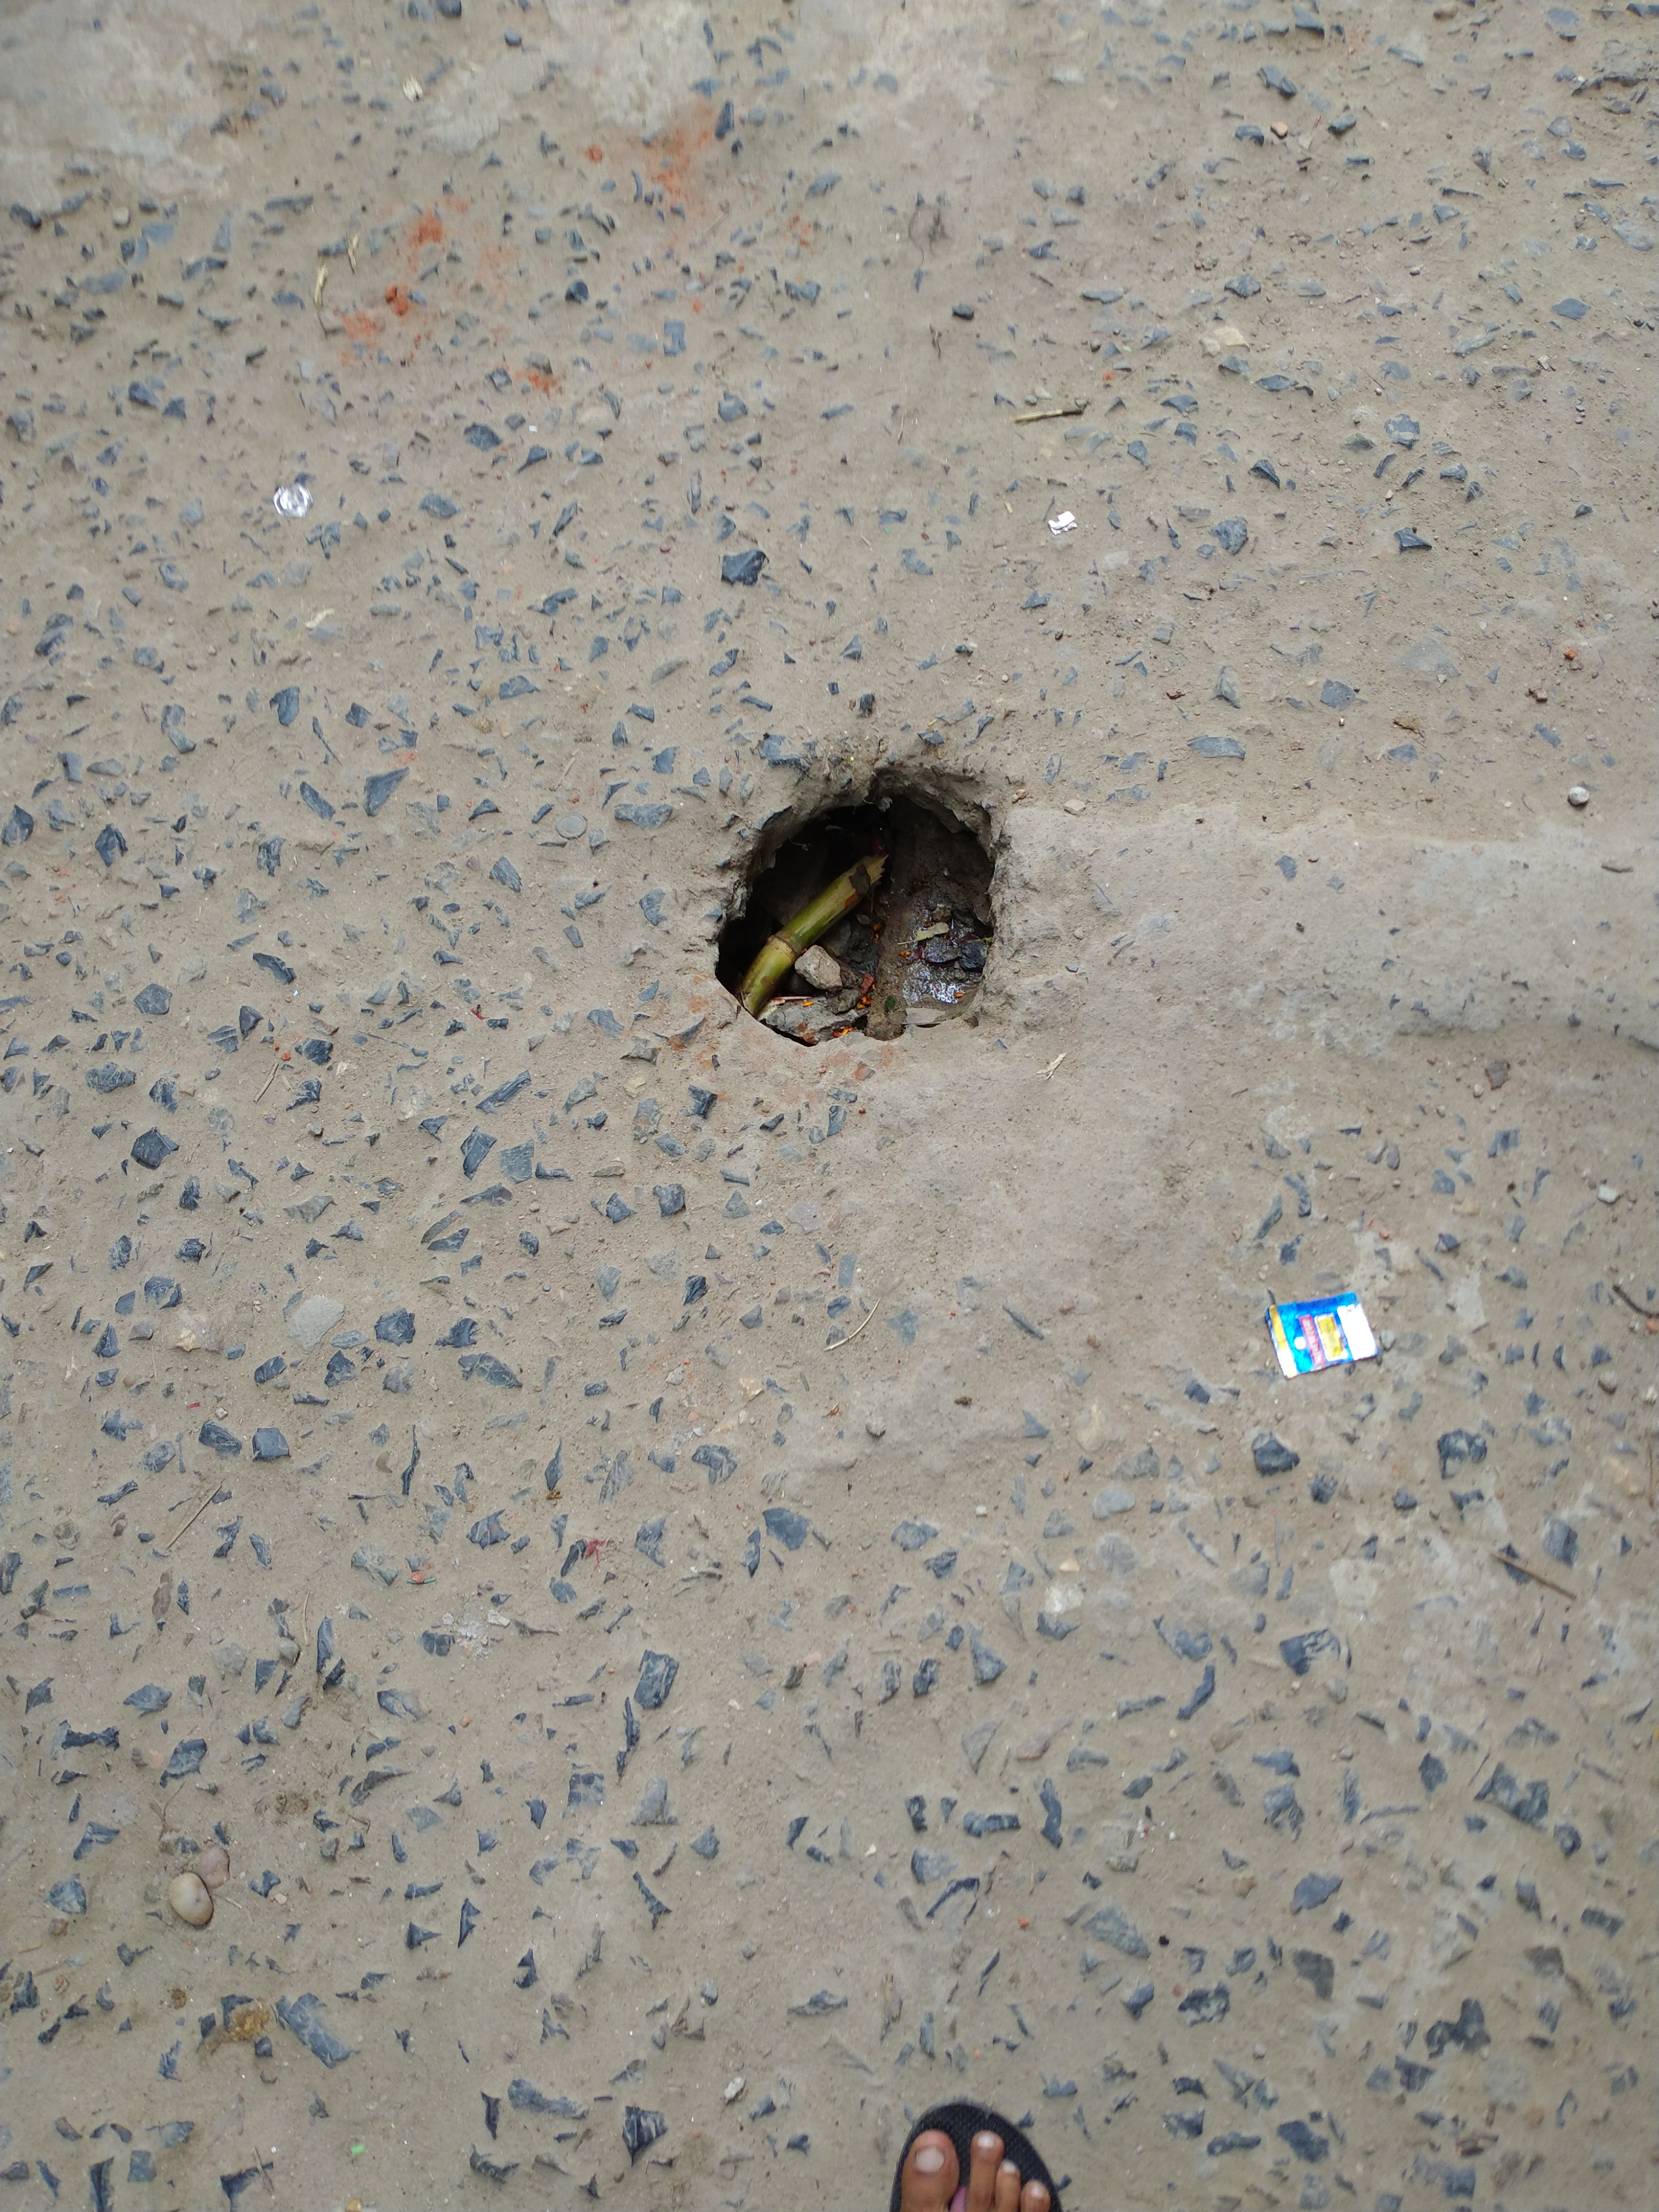potholes: (708, 758, 1032, 1059)
